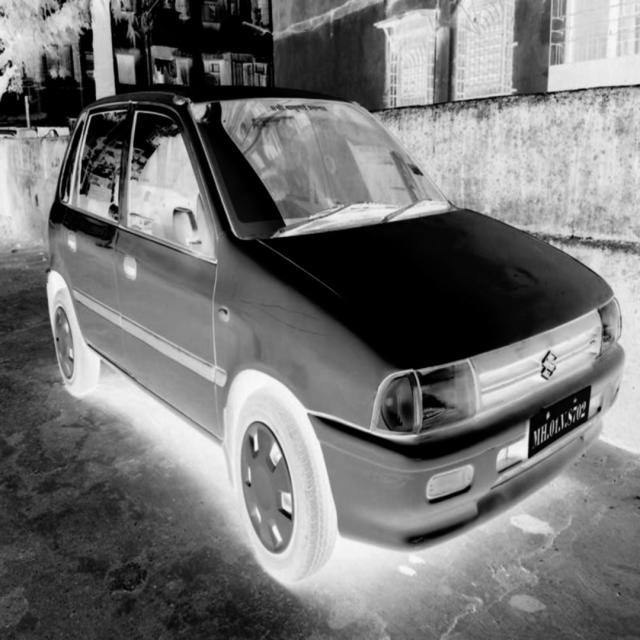Non_registered: (528, 382, 596, 458)
